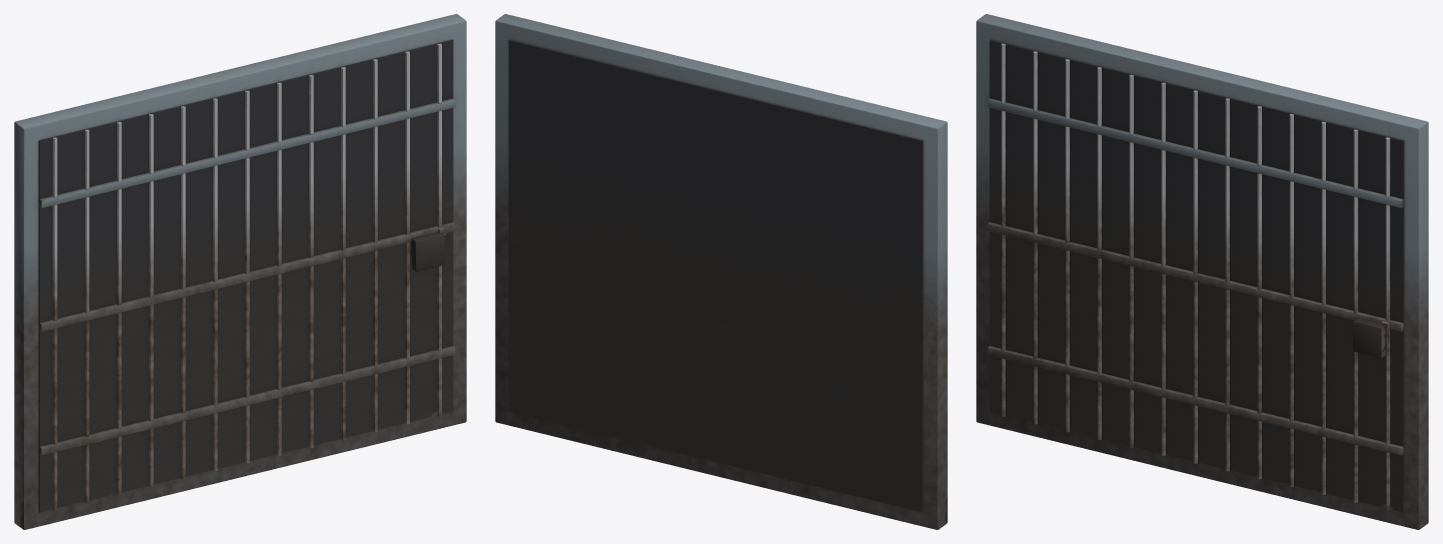
The model's file is g67_pz_grille.glb.
The picture shows the model from 3 angles, left to right: view 1: azimuth 30°, elevation 25°; view 2: azimuth 150°, elevation 25°; view 3: azimuth 330°, elevation 25°; orthographic projection.
Visible parts, largest first — view 1: g67_pz_grille; view 2: g67_pz_grille; view 3: g67_pz_grille.
Part boxes in pixels (x1,y1,x2,y2): g67_pz_grille: (14, 14, 466, 529); g67_pz_grille: (495, 14, 947, 529); g67_pz_grille: (976, 14, 1428, 529).
Size of the model in its own units: 3 by 2.6 by 0.22.
1 material, 1 textured.
